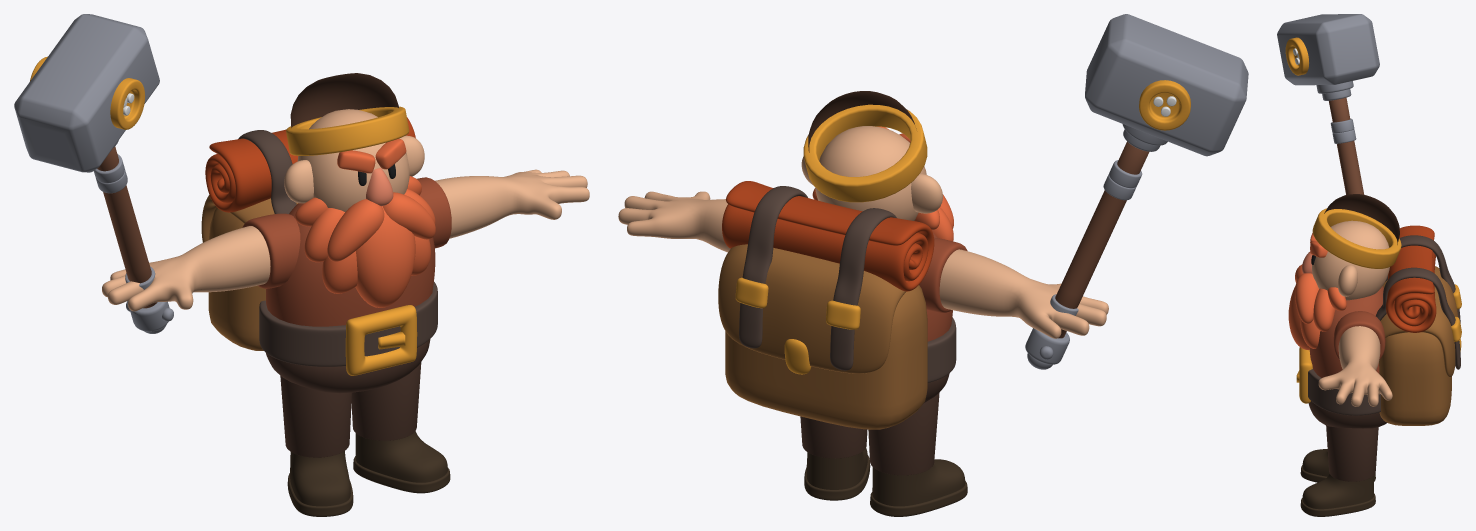
Rendered from Meshy_AI_chameleon_0215105846_texture.glb.
The picture shows the model from 3 angles, left to right: view 1: azimuth 30°, elevation 25°; view 2: azimuth 150°, elevation 25°; view 3: azimuth 270°, elevation 25°; orthographic projection. The views are drawn at different scales.
Parts seen in each view (by area): view 1: Object_4, Object_3, Object_6, Object_13, Object_11, Object_12, Object_17, Object_15, Object_14, Object_2, Object_9, Object_16 (+1 smaller); view 2: Object_14, Object_4, Object_3, Object_2, Object_17, Object_16, Object_12, Object_13, Object_11, Object_9, Object_15, Object_6; view 3: Object_4, Object_14, Object_3, Object_17, Object_2, Object_13, Object_12, Object_6, Object_11, Object_16, Object_15, Object_9.
Boxes of the visible parts, x1,y1,x2,y2 form: Object_4: (14,14,173,333); Object_3: (102,109,589,311); Object_6: (295,138,435,307); Object_13: (266,339,430,457); Object_11: (242,177,451,326); Object_12: (287,431,450,516); Object_17: (286,106,417,375); Object_15: (259,282,437,366); Object_14: (201,195,297,350); Object_2: (205,117,415,212); Object_9: (290,73,398,127); Object_16: (238,130,296,213); Object_14: (718,244,927,429); Object_4: (1025,14,1248,369); Object_3: (618,126,1108,338); Object_2: (722,181,934,291); Object_17: (735,104,927,374); Object_16: (739,186,896,370); Object_12: (804,448,967,516); Object_13: (800,373,949,475); Object_11: (919,233,967,341); Object_9: (808,91,916,152); Object_15: (927,317,956,382); Object_6: (812,126,953,241); Object_4: (1277,14,1379,194); Object_14: (1379,266,1457,425); Object_3: (1312,220,1392,406); Object_17: (1296,208,1461,403); Object_2: (1386,225,1436,332); Object_13: (1308,401,1387,481); Object_12: (1300,449,1375,516); Object_6: (1288,233,1346,350); Object_11: (1309,286,1385,377); Object_16: (1376,235,1460,369); Object_15: (1308,369,1380,415); Object_9: (1324,194,1399,244).
Bounding box in the file's own units: 3.48 × 2.94 × 1.28.
